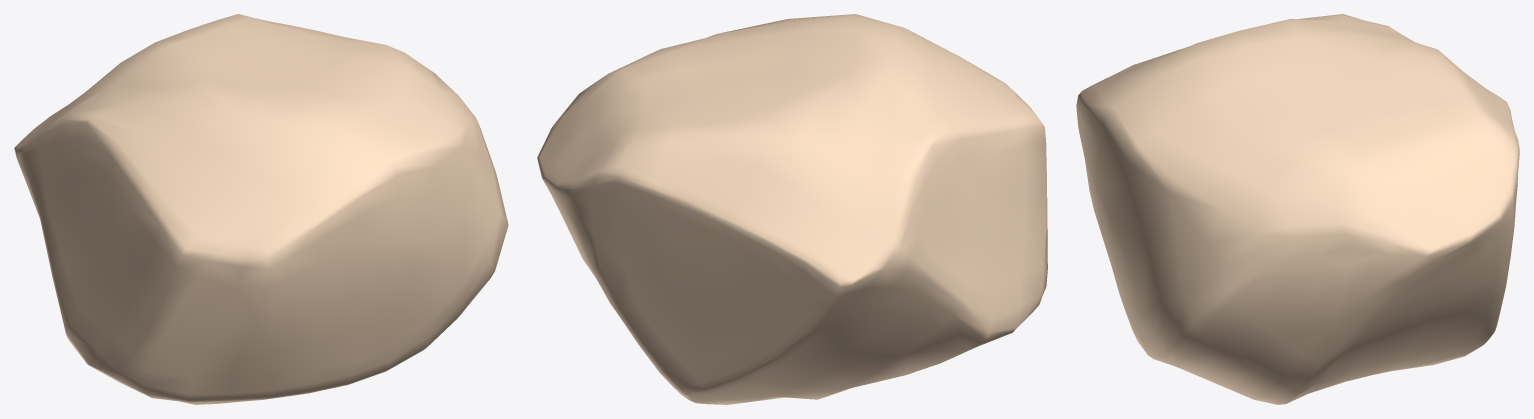
File: rock01.fbx
3 renders of one model, left to right at view 1: azimuth 30°, elevation 25°; view 2: azimuth 150°, elevation 25°; view 3: azimuth 270°, elevation 25°, orthographic.
Visible parts, largest first — view 1: rock01; view 2: rock01; view 3: rock01.
Boxes of the visible parts, x1=… form: rock01: x1=14, y1=14, x2=508, y2=404; rock01: x1=537, y1=14, x2=1047, y2=404; rock01: x1=1076, y1=14, x2=1519, y2=404.
Bounding box in the file's own units: 2.17 × 1.57 × 2.07.
